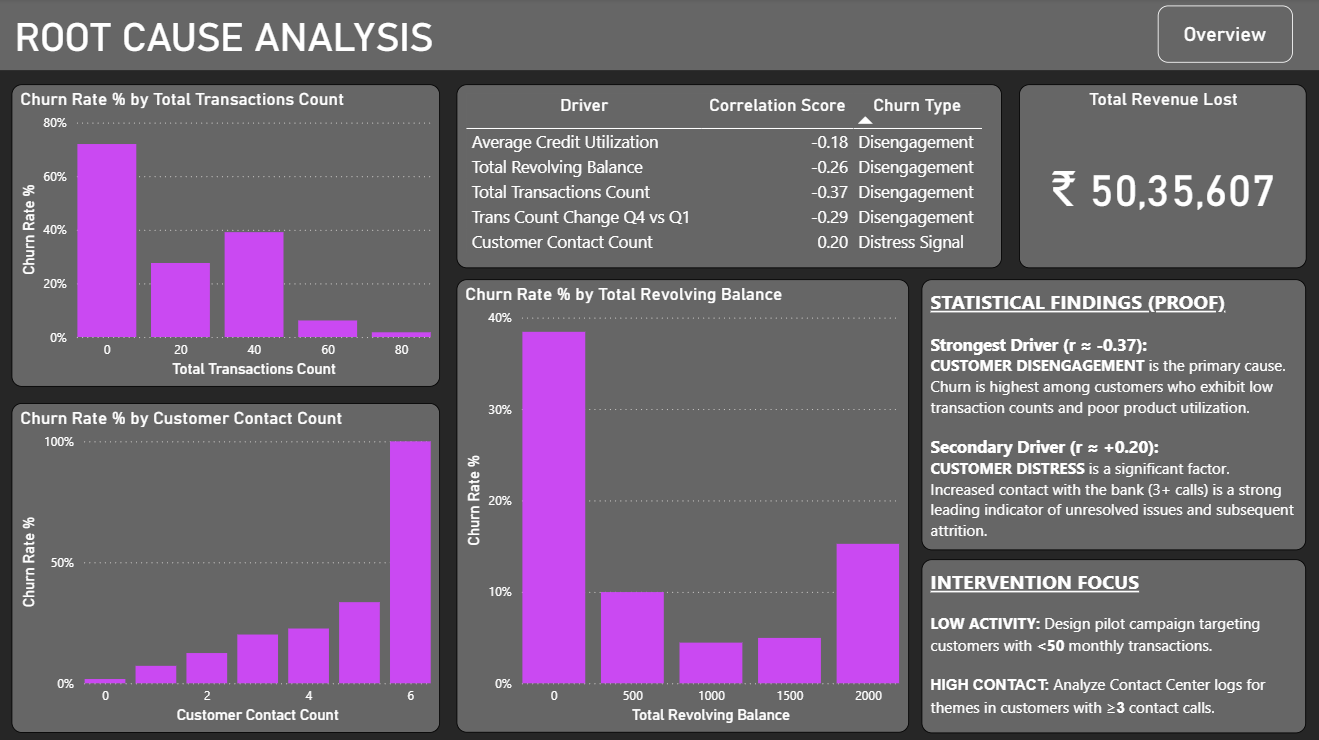

The page's visual inventory and layout, read from the dashboard file:
{"tool":"powerbi","page":{"name":"Diagnostics","canvas":[1280,720],"ordinal":1},"visuals":[{"type":"clusteredColumnChart","fields":{"Y":["Final_Bank_Customers_Data.Churn Rate %"],"Category":["Final_Bank_Customers_Data.Total Transactions Count 2"]},"box":[16.9,83.2,413.8,292],"z":0},{"type":"actionButton","box":[0,0,100,40],"z":1000},{"type":"textbox","box":[0,0,1280,70],"z":2000},{"type":"actionButton","box":[1123.2,7.2,130.3,55.5],"z":3000},{"type":"clusteredColumnChart","fields":{"Y":["Final_Bank_Customers_Data.Churn Rate %"],"Category":["Final_Bank_Customers_Data.Customer Contact Count"]},"box":[16.9,390.9,413.8,318.5],"z":4000},{"type":"clusteredColumnChart","fields":{"Y":["Final_Bank_Customers_Data.Churn Rate %"],"Category":["Final_Bank_Customers_Data.Total Revolving Balance (bins) (bins)"]},"box":[446.4,271.4,436.7,437.9],"z":5000},{"type":"tableEx","fields":{"Values":["Table.Driver","Table.Correlation Score","Table.Churn Type"]},"box":[446.4,83.2,526,177.3],"z":6000},{"type":"textbox","box":[895.2,271.4,371.6,261.8],"z":7000},{"type":"card","title":"Total Revenue Lost","fields":{"Values":["Final_Bank_Customers_Data.Lost_Revenue_Value"]},"box":[989.3,83.2,277.5,177.3],"z":8000},{"type":"textbox","box":[895.2,541.7,371.6,167.7],"z":9000}]}

Visuals, with their boxes in screenshot pixels (x1, y1, x2, y2), scaled from the page's 1280x720 canvas onto the 1319x740 screenshot:
clusteredColumnChart - Final_Bank_Customers_Data.Churn Rate % x Final_Bank_Customers_Data.Total Transactions Count 2: (left=17, top=86, right=444, bottom=386)
actionButton: (left=0, top=0, right=103, bottom=41)
textbox: (left=0, top=0, right=1318, bottom=72)
actionButton: (left=1157, top=7, right=1292, bottom=64)
clusteredColumnChart - Final_Bank_Customers_Data.Churn Rate % x Final_Bank_Customers_Data.Customer Contact Count: (left=17, top=402, right=444, bottom=729)
clusteredColumnChart - Final_Bank_Customers_Data.Churn Rate % x Final_Bank_Customers_Data.Total Revolving Balance (bins) (bins): (left=460, top=279, right=910, bottom=729)
tableEx - Table.Driver x Table.Correlation Score: (left=460, top=86, right=1002, bottom=268)
textbox: (left=922, top=279, right=1305, bottom=548)
"Total Revenue Lost" card: (left=1019, top=86, right=1305, bottom=268)
textbox: (left=922, top=557, right=1305, bottom=729)
